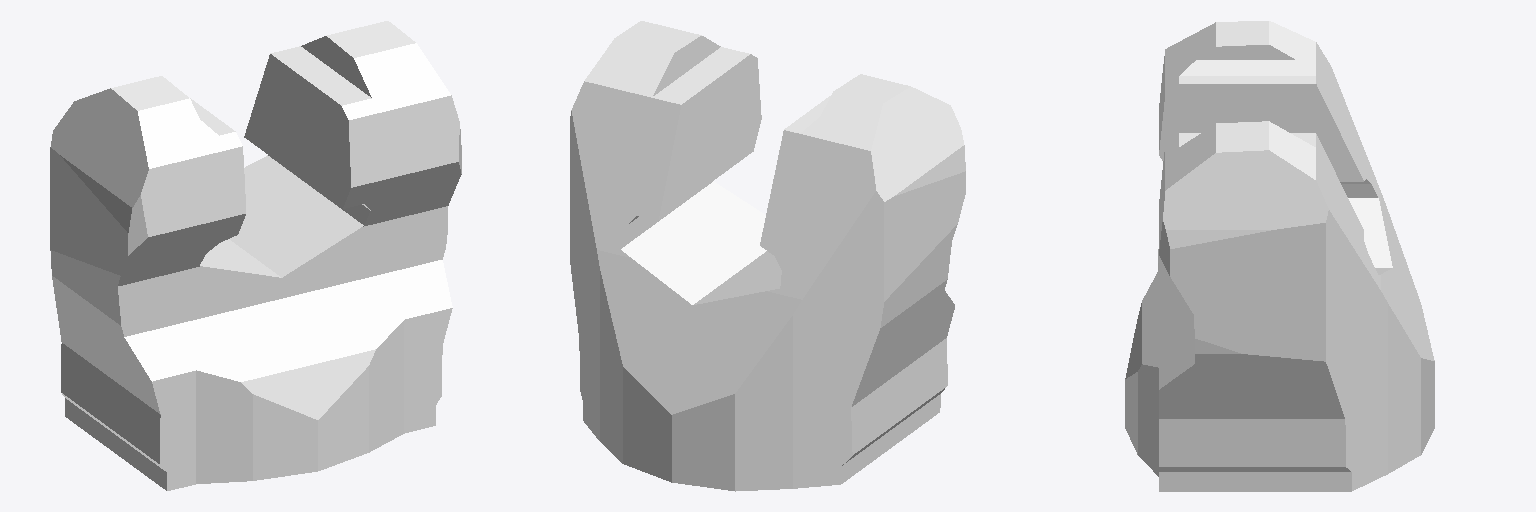
URDF robot description (arctos):
<?xml version="1.0" ?>
<robot name="arctos" xmlns:xacro="http://www.ros.org/wiki/xacro">

<!-- Test this file using URDF tester: ros2 launch urdf_tutorial display.launch.py model:=filepath -->
<!-- Create a moveit configuration package from this using: ros2 launch moveit_setup_assistant setup_assistant.launch.py -->

<link name="base_link">
  <visual>
    <origin xyz="0 0 0" rpy="0 0 0" />
    <geometry>
      <mesh filename="package://arctos_description/meshes/visual/base_link.stl"/>
    </geometry>
    <material name="">
      <color rgba="0.5 0.5 0.5 1.0"/>
    </material>
  </visual>
  <collision>
    <origin xyz="0 0 0" rpy="0 0 0" />
    <geometry>
      <mesh filename="package://arctos_description/meshes/collision/base_link.stl"/>
    </geometry>
  </collision>
</link>

<link name="link_1">
  <visual>
    <origin xyz="0 -0.00041681658083819966929 -0.11275000125169754028" rpy="0 0 0" />
    <geometry>
      <mesh filename="package://arctos_description/meshes/visual/link_1.stl"/>
    </geometry>
    <material name="">
      <color rgba="1.0 1.0 1.0 1.0"/>
    </material>
  </visual>
  <collision>
    <origin xyz="0 -0.00041681658083819966929 -0.11275000125169754028" rpy="0 0 0" />
    <geometry>
      <mesh filename="package://arctos_description/meshes/collision/link_1.stl"/>
    </geometry>
  </collision>
</link>

<link name="link_2">
  <visual>
    <origin xyz="0.0050306233745687611164 0.12119288939136513283 0" rpy="-1.570796326794896558 -1.570796326794896558 0" />
    <geometry>
      <mesh filename="package://arctos_description/meshes/visual/link_2.stl"/>
    </geometry>
    <material name="">
      <color rgba="1.0 1.0 1.0 1.0"/>
    </material>
  </visual>
  <collision>
    <origin xyz="0.0050306233745687611164 0.12119288939136513283 0" rpy="-1.570796326794896558 -1.570796326794896558 0" />
    <geometry>
      <mesh filename="package://arctos_description/meshes/collision/link_2.stl"/>
    </geometry>
  </collision>
</link>

<link name="link_3">
  <visual>
    <origin xyz="-0.045068866773434773654 0.0089066394204357912656 -0.0020322035998106002808" rpy="-1.570796326794896558 -1.570796326794896558 0" />
    <geometry>
      <mesh filename="package://arctos_description/meshes/visual/link_3.stl"/>
    </geometry>
    <material name="">
      <color rgba="1.0 1.0 1.0 1.0"/>
    </material>
  </visual>
  <collision>
    <origin xyz="-0.045068866773434773654 0.0089066394204357912656 -0.0020322035998106002808" rpy="-1.570796326794896558 -1.570796326794896558 0" />
    <geometry>
      <mesh filename="package://arctos_description/meshes/collision/link_3.stl"/>
    </geometry>
  </collision>
</link>

<link name="link_4">
  <visual>
    <origin xyz="0.00023336745320452095299 -0.0017717950372168056461 0.068930938844942335475" rpy="-1.5708005289820567985 0 0" />
    <geometry>
      <mesh filename="package://arctos_description/meshes/visual/link_4.stl"/>
    </geometry>
    <material name="">
      <color rgba="1.0 1.0 1.0 1.0"/>
    </material>
  </visual>
  <collision>
    <origin xyz="0.00023336745320452095299 -0.0017717950372168056461 0.068930938844942335475" rpy="-1.5708005289820567985 0 0" />
    <geometry>
      <mesh filename="package://arctos_description/meshes/collision/link_4.stl"/>
    </geometry>
  </collision>
</link>

<link name="link_5">
  <visual>
    <origin xyz="-0.0042330650963633975614 -0.0051364205700892284767 0" rpy="-1.570796326794896558 -1.570796326794896558 0" />
    <geometry>
      <mesh filename="package://arctos_description/meshes/visual/link_5.stl"/>
    </geometry>
    <material name="">
      <color rgba="1.0 1.0 1.0 1.0"/>
    </material>
  </visual>
  <collision>
    <origin xyz="-0.0042330650963633975614 -0.0051364205700892284767 0" rpy="-1.570796326794896558 -1.570796326794896558 0" />
    <geometry>
      <mesh filename="package://arctos_description/meshes/collision/link_5.stl"/>
    </geometry>
  </collision>
</link>

<link name="link_6">
  <visual>
    <origin xyz="0 0 0.0030423125717788934708" rpy="-1.570796326794896558 0 0" />
    <geometry>
      <mesh filename="package://arctos_description/meshes/visual/link_6.stl"/>
    </geometry>
    <material name="">
      <color rgba="1.0 1.0 1.0 1.0"/>
    </material>
  </visual>
  <collision>
    <origin xyz="0 0 0.0030423125717788934708" rpy="-1.570796326794896558 0 0" />
    <geometry>
      <mesh filename="package://arctos_description/meshes/collision/link_6.stl"/>
    </geometry>
  </collision>
</link>

<link name="gripper">
  <visual>
    <origin xyz="0 0 0.019161773845553342621" rpy="-1.570796326794896558 0 0" />
    <geometry>
      <mesh filename="package://arctos_description/meshes/visual/gripper.stl"/>
    </geometry>
    <material name="">
      <color rgba="1.0 1.0 1.0 1.0"/>
    </material>
  </visual>
  <collision>
    <origin xyz="0 0 0.019161773845553342621" rpy="-1.570796326794896558 0 0" />
    <geometry>
      <mesh filename="package://arctos_description/meshes/collision/gripper.stl"/>
    </geometry>
  </collision>
</link>

<link name="left_jaw">
  <visual>
    <origin xyz="0.0078078261650459807042 0.014880206056590516983 0.016259277239441760621" rpy="-3.141592653589793116 0 0" />
    <geometry>
      <mesh filename="package://arctos_description/meshes/visual/left_jaw.stl"/>
    </geometry>
    <material name="">
      <color rgba="1.0 1.0 1.0 1.0"/>
    </material>
  </visual>
  <collision>
    <origin xyz="0.0078078261650459807042 0.014880206056590516983 0.016259277239441760621" rpy="-3.141592653589793116 0 0" />
    <geometry>
      <mesh filename="package://arctos_description/meshes/collision/left_jaw.stl"/>
    </geometry>
  </collision>
</link>

<link name="right_jaw">
  <visual>
    <origin xyz="0.0098252356227949769196 0.01479670833373308847 0.016258545219898112855" rpy="0 0 -3.141592653589793116" />
    <geometry>
      <mesh filename="package://arctos_description/meshes/visual/right_jaw.stl"/>
    </geometry>
    <material name="">
      <color rgba="1.0 1.0 1.0 1.0"/>
    </material>
  </visual>
  <collision>
    <origin xyz="0.0098252356227949769196 0.01479670833373308847 0.016258545219898112855" rpy="0 0 -3.141592653589793116" />
    <geometry>
      <mesh filename="package://arctos_description/meshes/collision/right_jaw.stl"/>
    </geometry>
  </collision>
</link>

<link name="tool"/>

<joint name="joint_1" type="revolute">
  <origin xyz="0 0.00055605489707216942258 0.11100000143051147461" rpy="0 0 0" />
  <parent link="base_link"/>
  <child link="link_1"/>
  <axis xyz="0.0 0.0 1.0"/>
  <limit effort="87" lower="-3.14" upper="3.14" velocity="2.3925"/>
</joint>

<joint name="joint_2" type="revolute">
  <origin xyz="0 -0.020781082905280513079 0.17678425580620604762" rpy="1.570796326794896558 -0 1.570796326794896558" />
  <parent link="link_1"/>
  <child link="link_2"/>
  <axis xyz="0.0 0.0 1.0"/>
  <limit effort="87" lower="-1.4" upper="2.2" velocity="2.3925"/>
</joint>

<joint name="joint_3" type="revolute">
  <origin xyz="0.0013376010636743790316 0.26104231465218918906 0" rpy="0 -0 0" />
  <parent link="link_2"/>
  <child link="link_3"/>
  <axis xyz="0.0 0.0 1.0"/>
  <limit effort="87" lower="-1.6" upper="1.1" velocity="2.3925"/>
</joint>

<joint name="joint_4" type="revolute">
  <origin xyz="-0.1396972976763926344 0.021603620824119817989 -0.0020149579452040855196" rpy="0 -1.570796326794896558 0" />
  <parent link="link_3"/>
  <child link="link_4"/>
  <axis xyz="0.0 0.0 1.0"/>
  <limit effort="87" lower="-3.14" upper="3.14" velocity="2.3925"/>
</joint>

<joint name="joint_5" type="revolute">
  <origin xyz="0.00023335107063317261922 -0.0017076520363463743024 0.11918757822437711646" rpy="-1.4933778981106418104 1.5707921119830681178 -1.493377898111326596" />
  <parent link="link_4"/>
  <child link="link_5"/>
  <axis xyz="0.0 0.0 1.0"/>
  <limit effort="87" lower="-1.8" upper="1.8" velocity="2.3925"/>
</joint>

<joint name="joint_6" type="revolute">
  <origin xyz="-0.0358229605831950626 0 0" rpy="0 -1.570796326794896558 0" />
  <parent link="link_5"/>
  <child link="link_6"/>
  <axis xyz="0.0 0.0 1.0"/>
  <limit effort="87" lower="-3.14" upper="3.14" velocity="2.3925"/>
</joint>

<joint name="gripper" type="fixed">
  <origin xyz="0 0 0.0060846251435577314304" rpy="0 0 0" />
  <parent link="link_6"/>
  <child link="gripper"/>
</joint>

<joint name="left_jaw" type="prismatic">
  <origin xyz="0.0077708606105235935799 -0.030484645745930794014 0.039993524652900958039" rpy="1.570796326794896558 0 3.141592653589793116" />
  <parent link="gripper"/>
  <child link="left_jaw"/>
  <axis xyz="0.0 0.0 1.0"/>
  <limit effort="87" upper="0.015" lower="0.0" velocity="2.3925"/>
</joint>

<joint name="right_jaw" type="prismatic">
  <origin xyz="-0.01172663933588792215 0.029515354775609847771 0.039922151969763619572" rpy="1.570796326794896558 0 0" />
  <parent link="gripper"/>
  <child link="right_jaw"/>
  <axis xyz="0.0 0.0 1.0"/>
  <limit effort="87" upper="0.015" lower="0.0" velocity="2.3925"/>
  <mimic joint="left_jaw" />
</joint>

<joint name="tool" type="fixed">
  <origin xyz="0.0 0.0 0.07" rpy="0 0 0" />
  <parent link="link_6"/>
  <child link="tool"/>
</joint>

</robot>

--- What the picture shows (computed from the rendered views, not written in the file) ---
Views: 3 orthographic renders of the robot side by side, from view 1: azimuth 30°, elevation 25°; view 2: azimuth 150°, elevation 25°; view 3: azimuth 270°, elevation 25°.
Model arctos with 11 links and 10 joints (6 revolute, 2 prismatic, 2 fixed), rooted at base_link, posed every joint at zero.
Visible links, largest first — view 1: link_1; view 2: link_1; view 3: link_1.
Boxes of the visible links, left/top/right/bottom form: link_1: left=50, top=21, right=461, bottom=490; link_1: left=570, top=21, right=965, bottom=491; link_1: left=1125, top=21, right=1434, bottom=491.
Size in the robot's own frame: 0.2211 by 0.1855 by 0.2288 metres.
Meshes: 10 distinct files referenced, 1 mesh visuals loaded (1 binary STL); not drawn: 9 (reference not matched to a file when rendering).